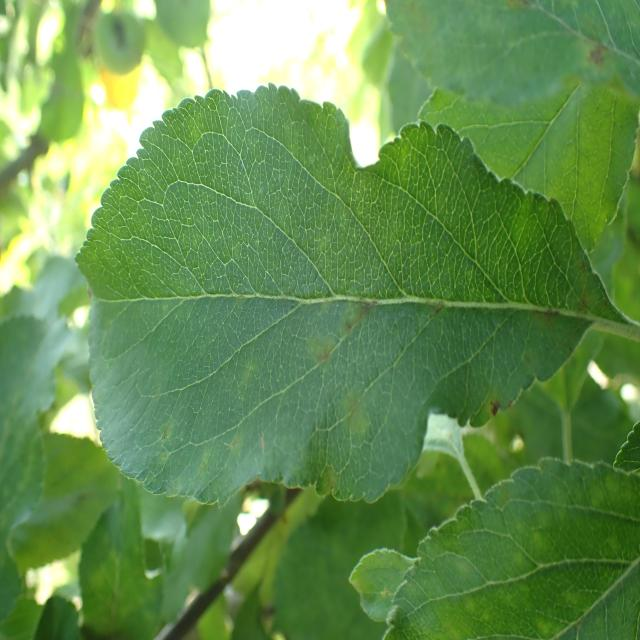scab: (105, 242, 607, 507), (528, 14, 607, 100), (615, 156, 640, 283)
